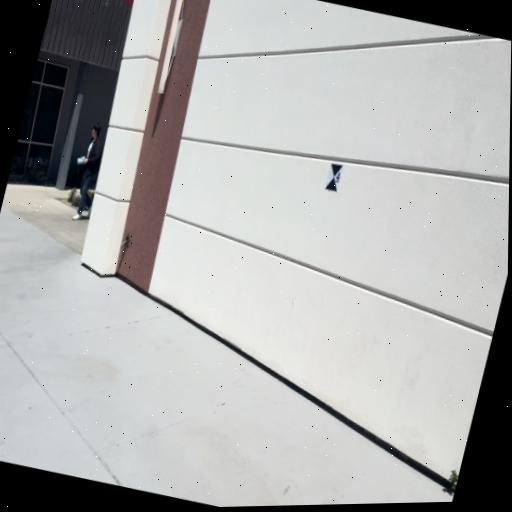target4: (324, 164, 344, 192)
